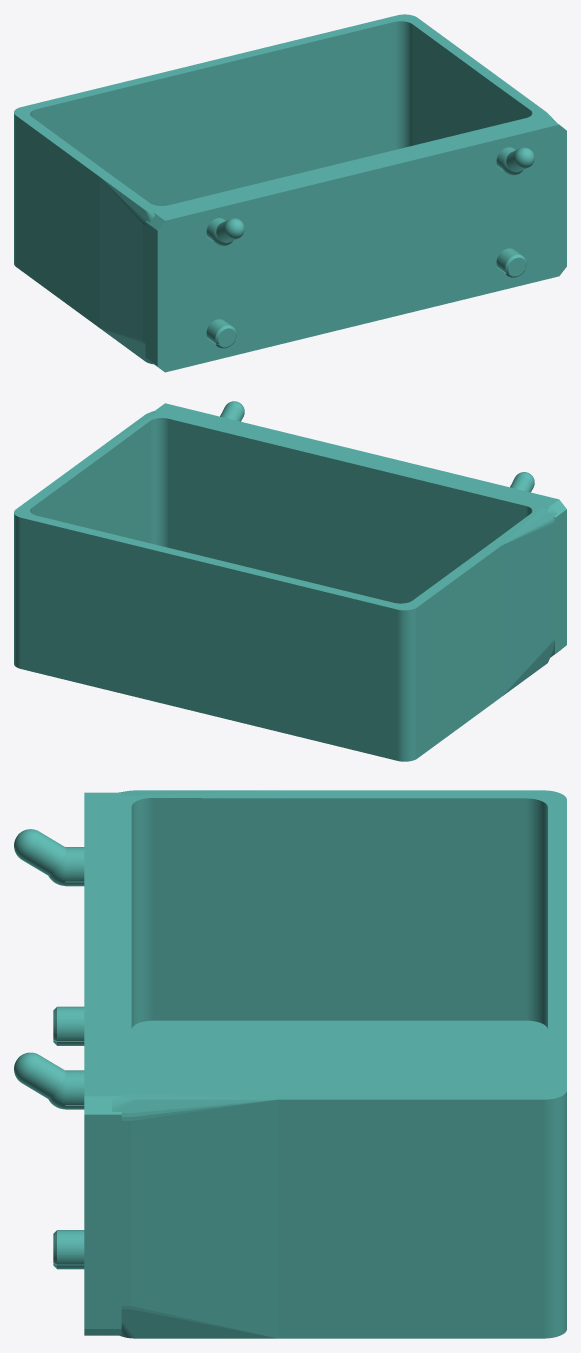
File: part-pegstr-p06__v2__pegstr-p06-100x60-bin__installed__fit-9c7be3cc78.glb
3 views of the same model, one above another, from view 1: azimuth 30°, elevation 25°; view 2: azimuth 150°, elevation 25°; view 3: azimuth 270°, elevation 25° (orthographic). The views are drawn at different scales.
Visible parts, largest first — view 1: Actual holder mesh; view 2: Actual holder mesh; view 3: Actual holder mesh.
Boxes of the visible parts, <box> form: Actual holder mesh: <box>14,14,566,372</box>; Actual holder mesh: <box>14,401,566,761</box>; Actual holder mesh: <box>14,790,566,1338</box>.
Bounding box in the file's own units: 0.1076 × 0.0384 × 0.0797.
